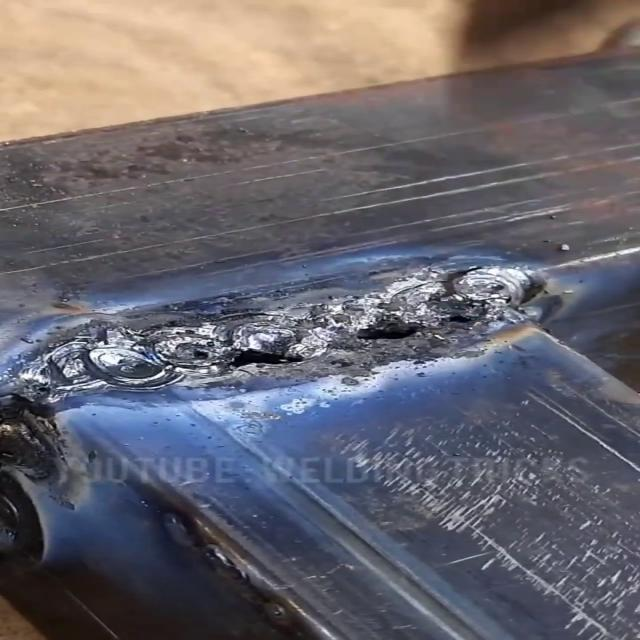Bad Weld: (31, 270, 542, 394)
Defect: (349, 310, 476, 346), (178, 342, 300, 374)
